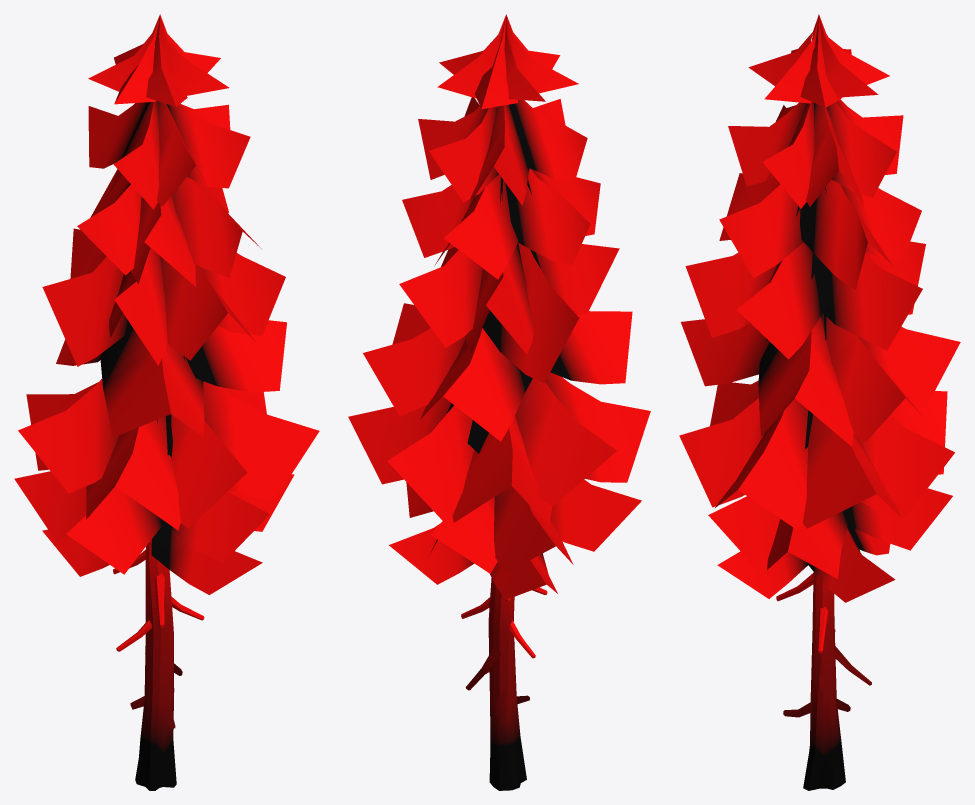
The model's file is PT_Pine_Tree_03_green.glb.
3 renders of one model, left to right at view 1: azimuth 30°, elevation 25°; view 2: azimuth 150°, elevation 25°; view 3: azimuth 270°, elevation 25°, orthographic.
Visible parts, largest first — view 1: PT_Pine_Tree_03_green_LOD0; view 2: PT_Pine_Tree_03_green_LOD0; view 3: PT_Pine_Tree_03_green_LOD0.
Part boxes in pixels (x1=…): PT_Pine_Tree_03_green_LOD0: x1=14, y1=14, x2=319, y2=790; PT_Pine_Tree_03_green_LOD0: x1=348, y1=14, x2=650, y2=790; PT_Pine_Tree_03_green_LOD0: x1=679, y1=14, x2=960, y2=790.
Size of what is drawn, in the model's own units: 3.21 by 9.17 by 3.03.
Materials: 2 (2 with a texture image).
